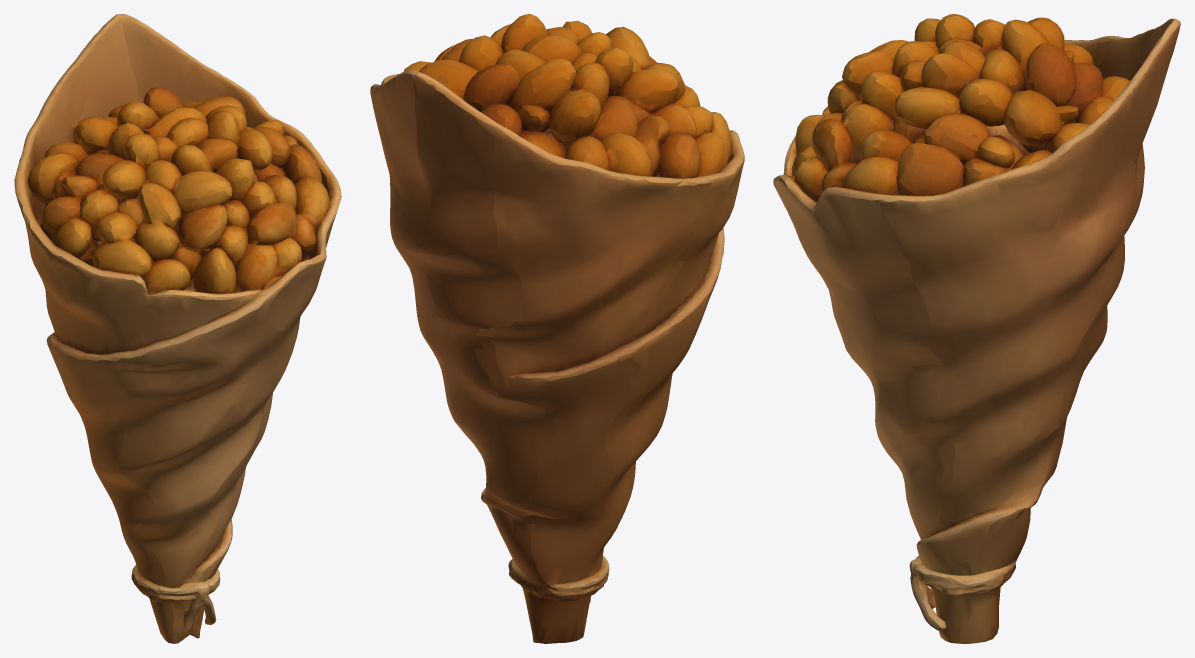
File: groundnut_cone.glb
3 renders of one model, left to right at view 1: azimuth 30°, elevation 25°; view 2: azimuth 150°, elevation 25°; view 3: azimuth 270°, elevation 25°, orthographic. The views are drawn at different scales.
Visible parts, largest first — view 1: geometry_0; view 2: geometry_0; view 3: geometry_0.
Part boxes in pixels (x1,y1,x2,y2): geometry_0: (14, 14, 341, 643); geometry_0: (370, 14, 744, 643); geometry_0: (773, 14, 1180, 643).
Bounding box in the file's own units: 0.1342 × 0.25 × 0.146.
1 material, 1 textured.
